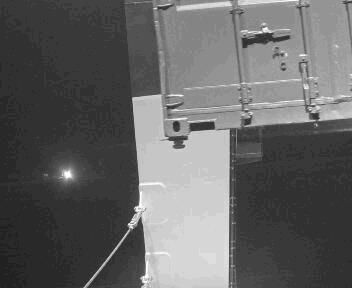twist_lock_1: (178, 157, 240, 199)
